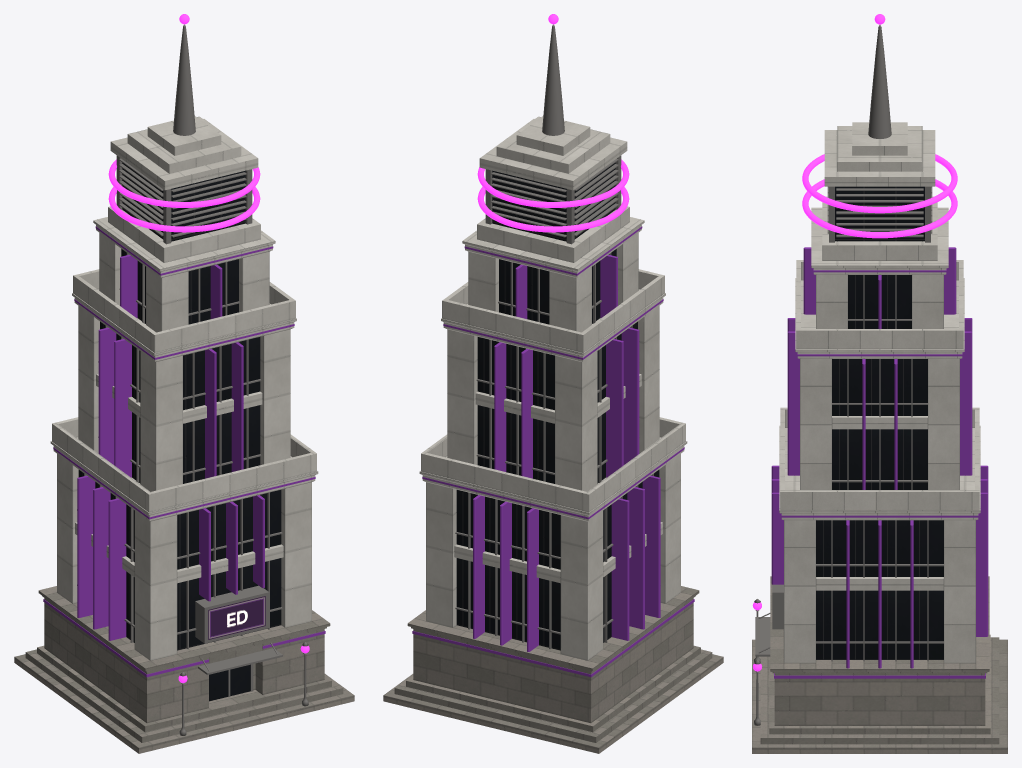
File: s16-echodawn-dao.glb
3 views of the same model, side by side, from view 1: azimuth 30°, elevation 25°; view 2: azimuth 150°, elevation 25°; view 3: azimuth 270°, elevation 25° (orthographic). The views are drawn at different scales.
Visible parts, largest first — view 1: Landmark · EchoDawn DAO (Series 16); view 2: Landmark · EchoDawn DAO (Series 16); view 3: Landmark · EchoDawn DAO (Series 16).
Part boxes in pixels (x1,y1,x2,y2): Landmark · EchoDawn DAO (Series 16): (14,14,354,753); Landmark · EchoDawn DAO (Series 16): (383,14,723,753); Landmark · EchoDawn DAO (Series 16): (752,14,1007,753).
Bounding box in the file's own units: 12 × 35.5 × 12.
7 materials, 4 textured.
